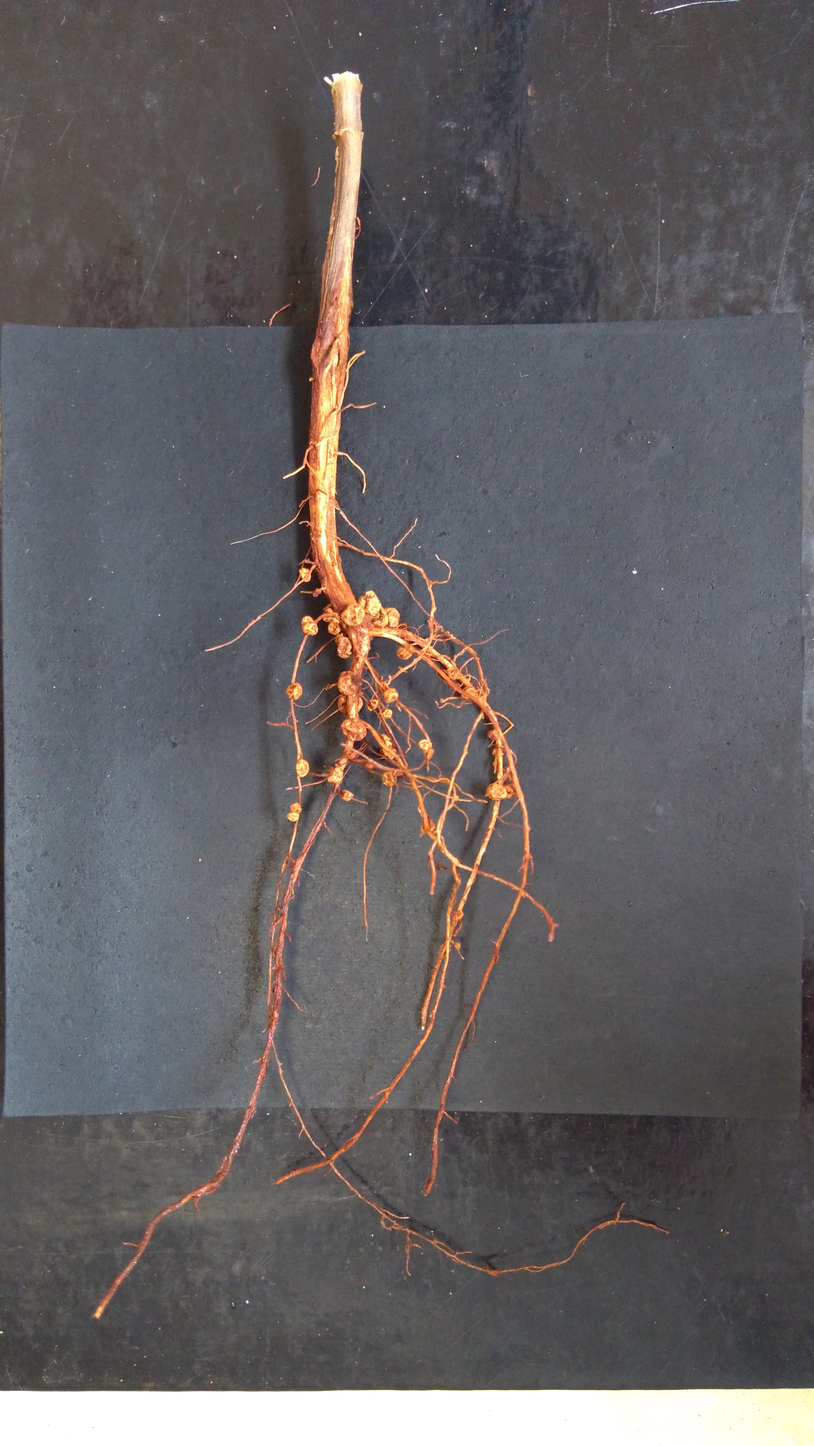nodule: (339, 714, 368, 744), (356, 589, 383, 618), (335, 669, 360, 700), (339, 601, 365, 628), (378, 733, 397, 762), (337, 695, 364, 715), (325, 764, 346, 787), (371, 606, 391, 630), (483, 783, 508, 802), (299, 614, 319, 637), (336, 636, 353, 662), (384, 606, 401, 630), (284, 682, 305, 701), (393, 645, 415, 662), (380, 770, 399, 789), (294, 757, 310, 779), (381, 686, 400, 704), (459, 684, 477, 700), (297, 567, 314, 583), (326, 619, 341, 637), (321, 607, 337, 623), (417, 737, 434, 752), (339, 789, 355, 803), (380, 707, 397, 719), (288, 801, 303, 814), (486, 729, 501, 741), (504, 784, 515, 800), (286, 811, 301, 822), (451, 909, 464, 920), (425, 748, 435, 761), (368, 698, 379, 708), (453, 940, 462, 948)
